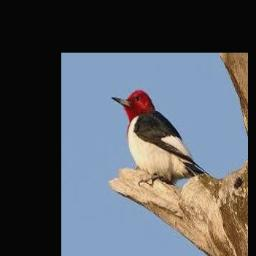Woodpecker: (112, 90, 205, 181)
